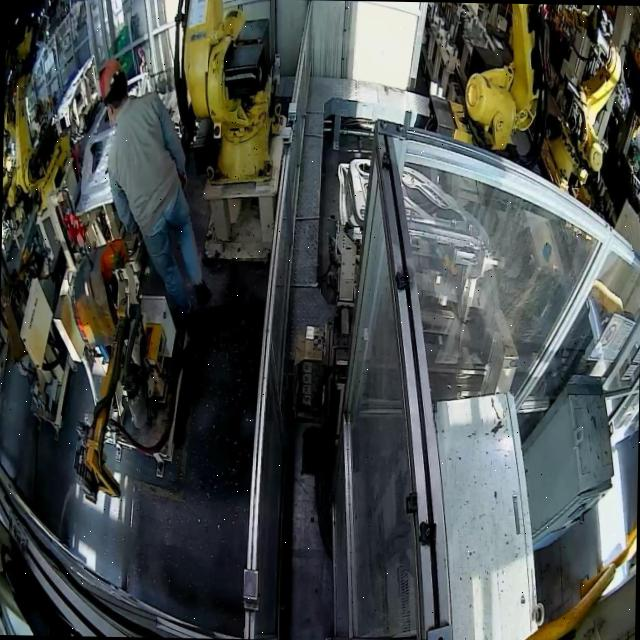Person: (94, 57, 216, 316)
